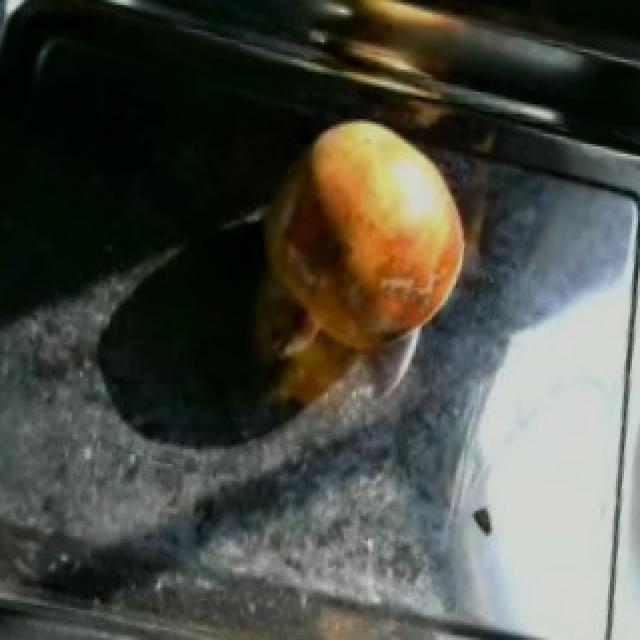fruit: (256, 102, 482, 372)
